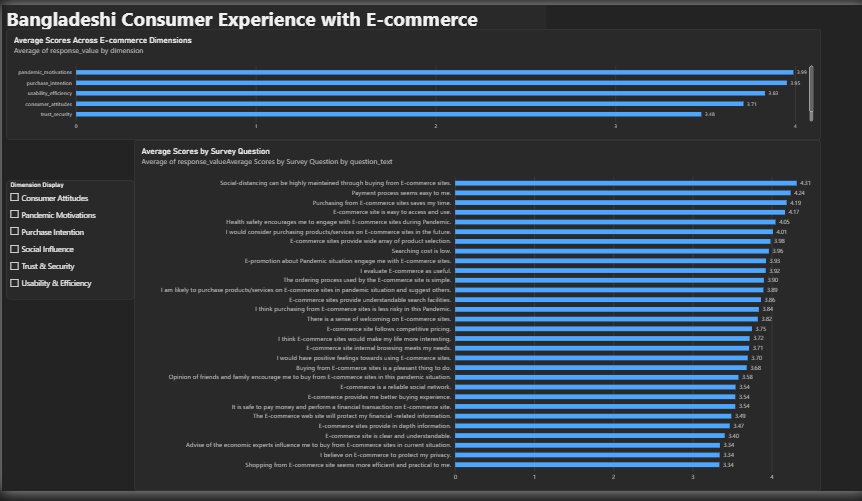

The dashboard page shown, as its layout file describes it:
{"tool":"powerbi","page":{"name":"Page 2","canvas":[1920,1080],"ordinal":1},"visuals":[{"type":"textbox","box":[10,0,1200,107.5],"z":0},{"type":"clusteredBarChart","title":"Average Scores Across E-commerce Dimensions","fields":{"Category":["public survey_questions.dimension"],"Y":["Avg(public survey_answers.response_value)"]},"box":[10,53.3,1810,246.7],"z":1},{"type":"clusteredBarChart","title":"Average Scores by Survey Question","fields":{"Category":["public survey_questions.question_text"],"Y":["Avg(public survey_answers.response_value)"]},"box":[293.3,300,1526.7,780],"z":2},{"type":"slicer","fields":{"Values":["public survey_questions.Dimension Display"]},"box":[10,390,284,264],"z":3}]}

Visuals, with their boxes on the page's 1920x1080 design canvas (x1, y1, x2, y2). These are canvas units, not pixel positions in the 862x501 screenshot, which may show the page scaled, cropped or inside an application window:
textbox: 10/0/1210/108
"Average Scores Across E-commerce Dimensions" clusteredBarChart: 10/53/1820/300
"Average Scores by Survey Question" clusteredBarChart: 293/300/1820/1080
slicer - public survey_questions.Dimension Display: 10/390/294/654
